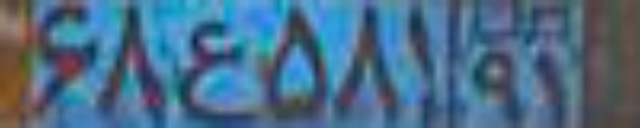1: (403, 6, 444, 116), (531, 51, 568, 123)
5: (262, 6, 326, 119)
6: (33, 3, 100, 119)
8: (329, 3, 400, 120), (103, 3, 165, 120)
9: (468, 51, 527, 121)
ain: (176, 20, 256, 121)
